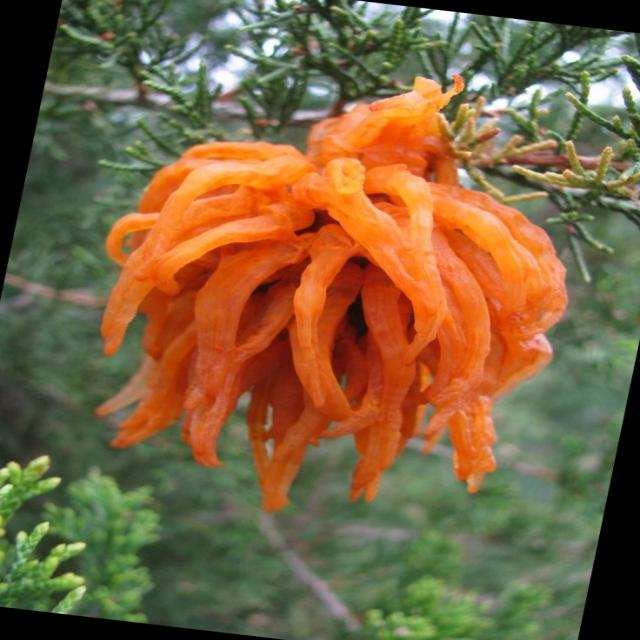Gymnosporangium_Rusts: (94, 73, 569, 513)
